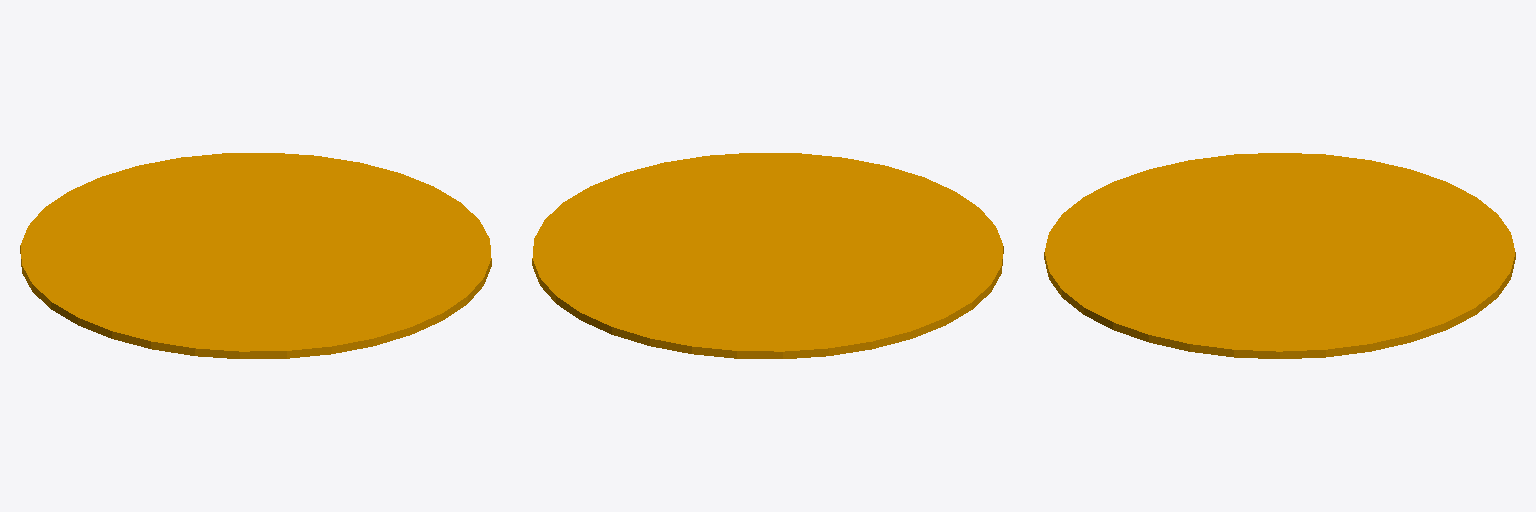
URDF robot description (snake/snake_planar_6_segments_disk_inner):
<?xml version="1.0"?>
<robot name="snake/snake_planar_6_segments_disk_inner">
 <link name="body">
  <inertial>
    <mass value="1"/>
    <inertia ixx="1.87773333333" ixy="0" ixz="0" iyy="1.87773333333" iyz="0" izz="1.8769"/>
  </inertial>
  <visual>
    <origin rpy="0 0 1.57" xyz="0 0 0"/>
    <geometry>
      <cylinder length="0.1" radius="2.74"/>
    </geometry>
  </visual>
  <collision>
    <origin rpy="0 0 1.57" xyz="0 0 0"/>
    <geometry>
      <cylinder length="0.1" radius="2.74"/>
    </geometry>
  </collision>
 </link>

  <klampt package_root="../../.." default_acc_max="4" >
  </klampt>
</robot>

--- Render facts (derived) ---
3 views of the same robot in one strip: view 1: azimuth 30°, elevation 25°; view 2: azimuth 150°, elevation 25°; view 3: azimuth 270°, elevation 25° (orthographic).
Model snake/snake_planar_6_segments_disk_inner with 1 links and 0 joints (none), rooted at body, posed every joint at zero.
Links seen in each view (by area): view 1: body; view 2: body; view 3: body.
Boxes of the visible links, x1=… form: body: x1=20, y1=153, x2=491, y2=358; body: x1=532, y1=153, x2=1003, y2=358; body: x1=1044, y1=153, x2=1515, y2=358.
Bounding box of the posed robot: 5.48 × 5.48 × 0.1 m (x, y, z).
Geometry: primitives only (box / cylinder / sphere), no mesh files.